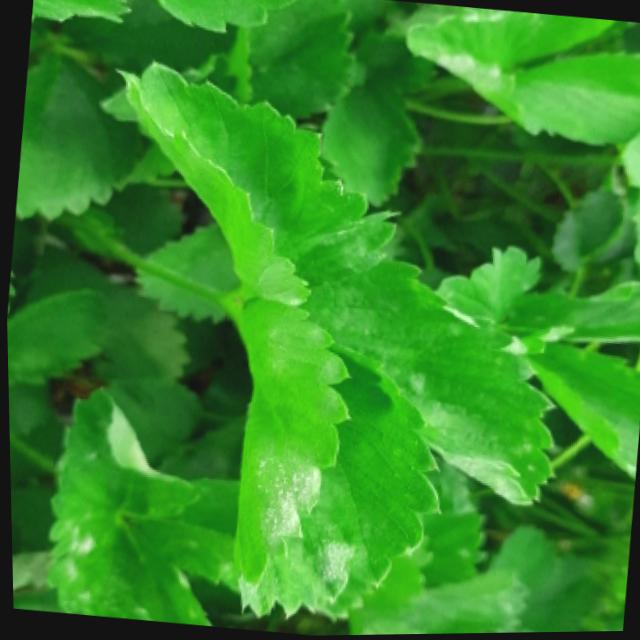Powdery Mildew Leaf: (230, 301, 438, 623), (299, 258, 554, 508), (38, 387, 234, 627), (402, 8, 640, 149)
